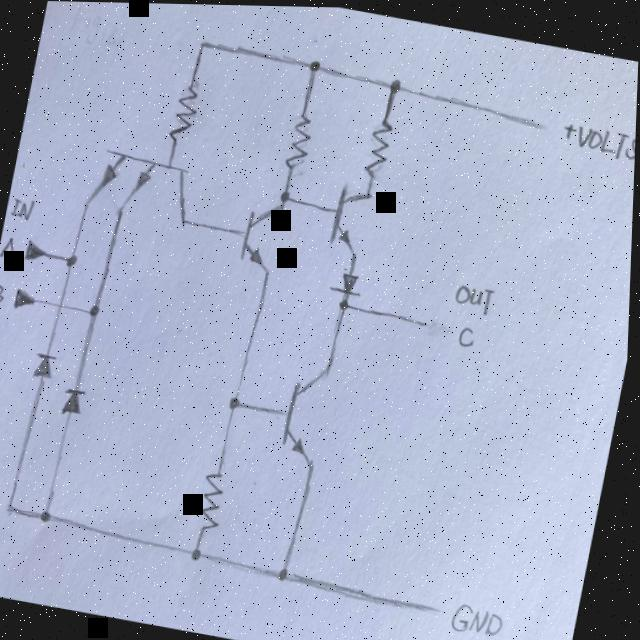crossover: (53, 295, 70, 314)
diode: (30, 344, 64, 387), (59, 380, 95, 419), (328, 262, 369, 295)
junction: (224, 382, 249, 416), (384, 70, 407, 97), (276, 555, 297, 584), (38, 502, 61, 527), (276, 179, 299, 203), (63, 245, 83, 271), (86, 296, 106, 320), (303, 53, 325, 74), (190, 540, 209, 562), (4, 493, 22, 516), (192, 30, 212, 50), (336, 292, 355, 311)
resistor: (162, 72, 207, 149), (359, 106, 402, 183), (195, 458, 237, 536), (282, 104, 318, 173)
terminal: (10, 283, 40, 313), (22, 235, 50, 265), (426, 590, 452, 620), (527, 108, 553, 133), (417, 310, 441, 333)
text: (450, 592, 513, 639), (573, 116, 637, 160), (452, 274, 500, 315), (7, 190, 38, 223), (457, 319, 481, 346), (0, 234, 20, 262), (560, 116, 578, 139), (0, 277, 9, 311)
transistor: (75, 136, 208, 236), (272, 354, 355, 480), (324, 179, 383, 262), (230, 194, 290, 274)
